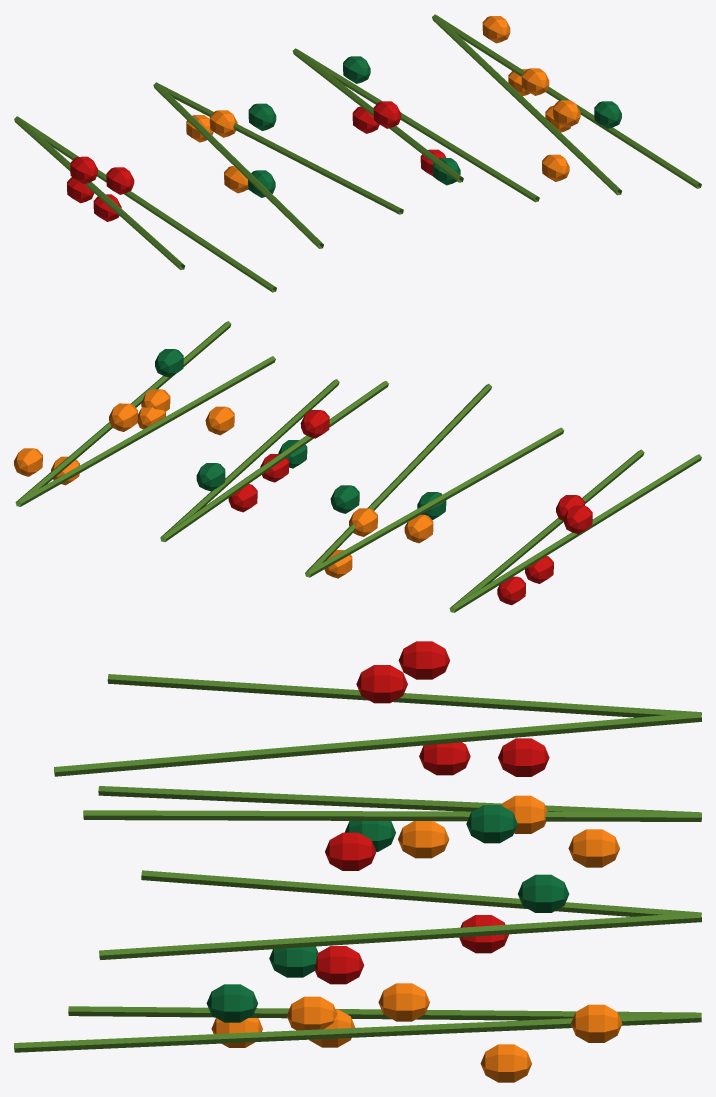
Rendered from r9c1_stems.obj.
3 views of the same model, one above another, from view 1: azimuth 30°, elevation 25°; view 2: azimuth 150°, elevation 25°; view 3: azimuth 270°, elevation 25° (orthographic). The views are drawn at different scales.
Visible parts, largest first — view 1: r9c1_stems; view 2: r9c1_stems; view 3: r9c1_stems.
Boxes of the visible parts, <box> form: r9c1_stems: <box>14,14,701,292</box>; r9c1_stems: <box>14,321,701,612</box>; r9c1_stems: <box>14,641,701,1082</box>.
Size of the model in its own units: 1.63 by 0.2533 by 1.33.
